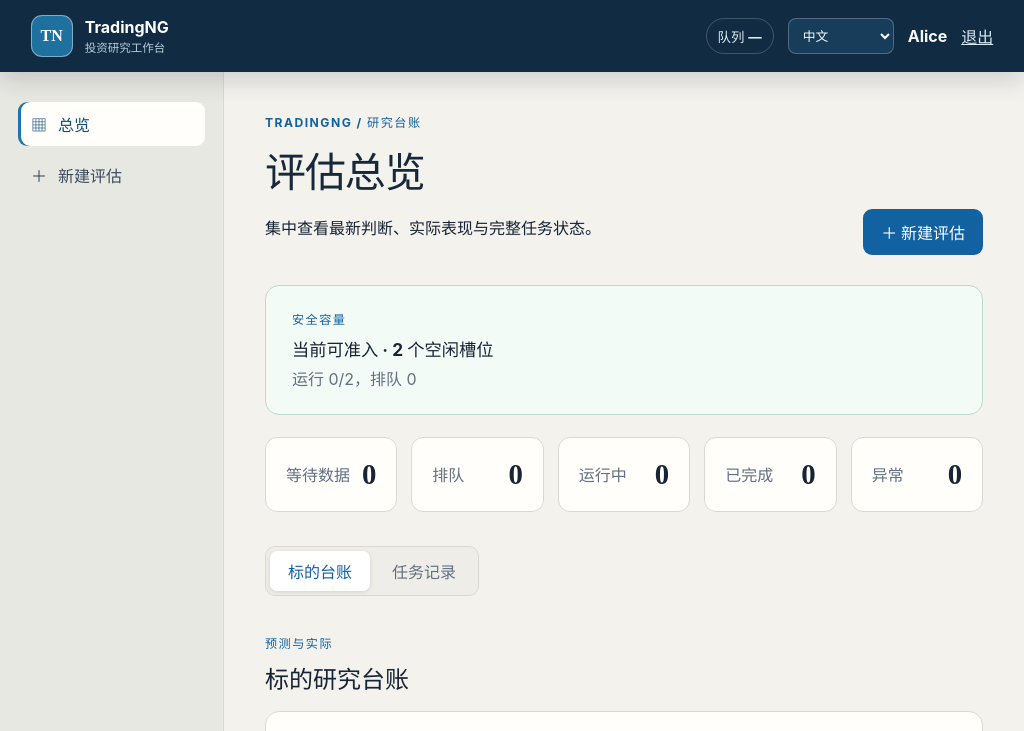
Test: lets the user switch the complete management shell to English
This screenshot has width=1024, height=731.
Select "English" in the dropdown named "界面语言" at (841, 36), box top-left (788, 18), bottom-right (894, 54)
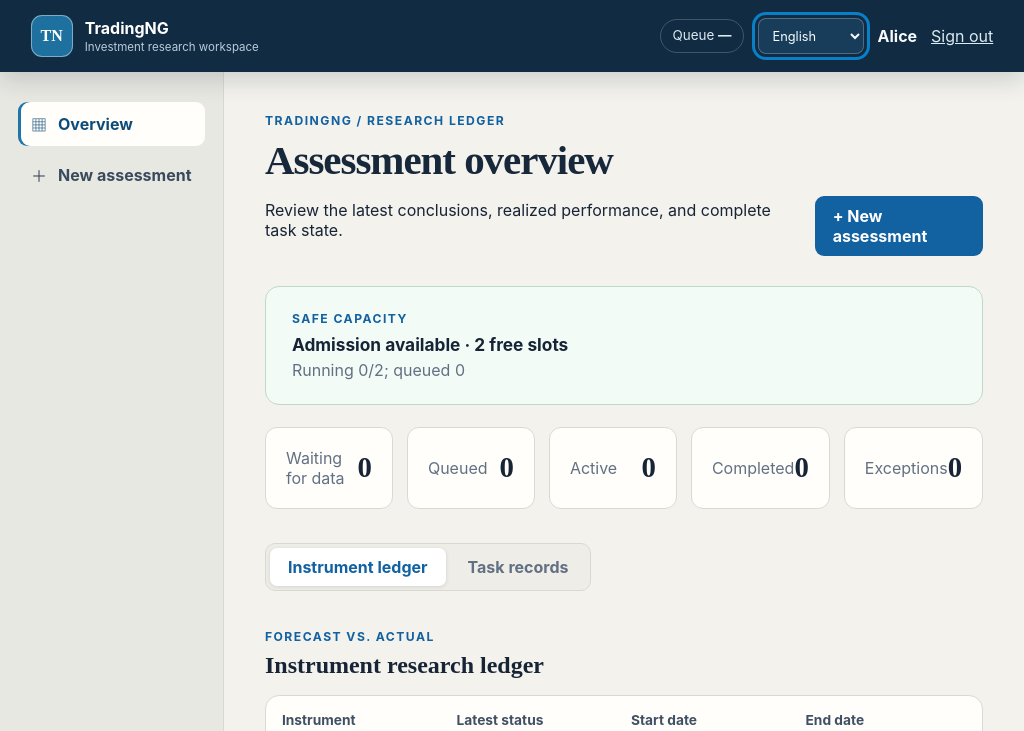
Expected: the link "▦ Overview" is shown, top-left (18, 102), bottom-right (205, 146)
Expected: the heading "Assessment overview" is shown, top-left (265, 137), bottom-right (613, 183)
